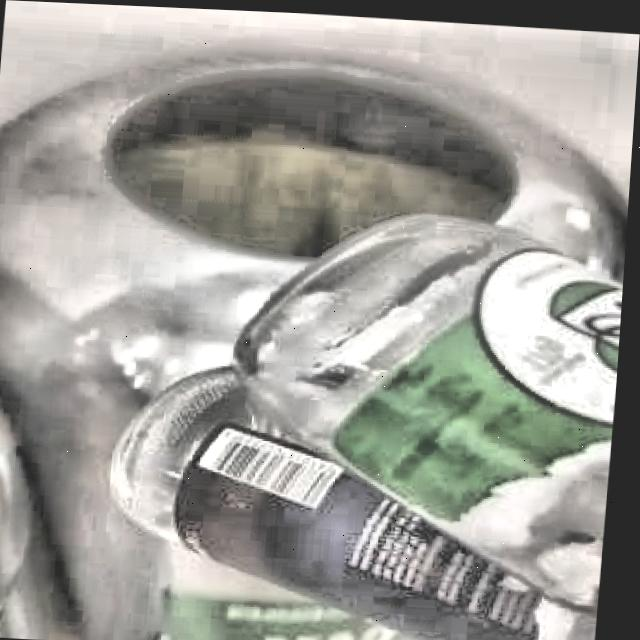glass: (117, 212, 627, 640)
